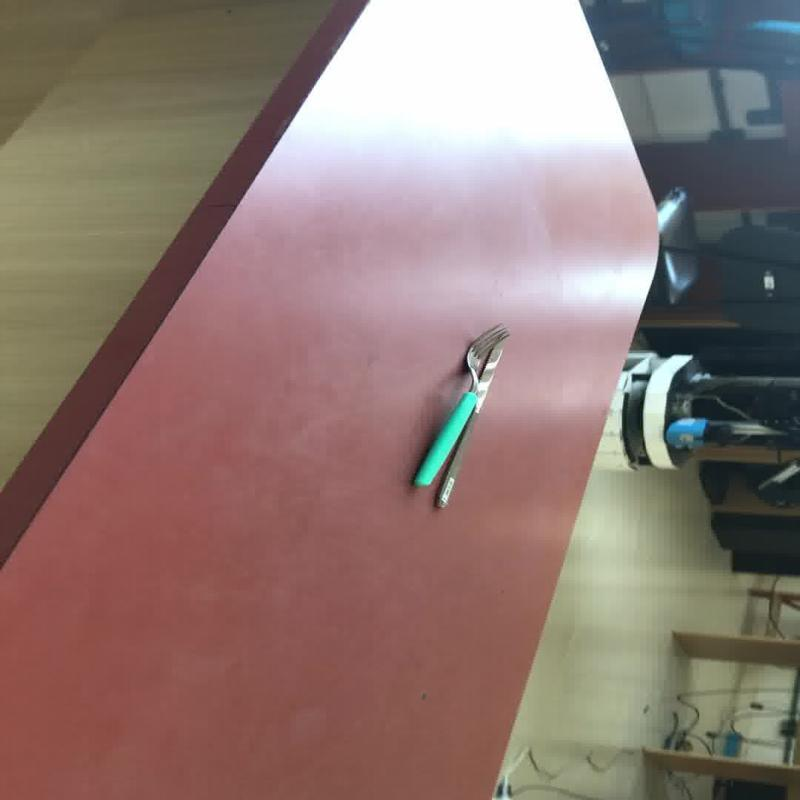fork: (430, 322, 510, 508)
knife: (410, 322, 510, 508)
